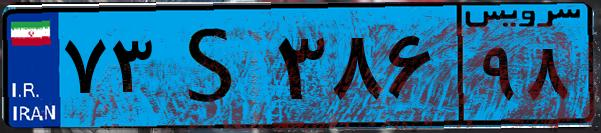3: (270, 28, 330, 110), (110, 28, 158, 98)
6: (385, 28, 445, 110)
7: (57, 26, 110, 100)
8: (330, 28, 385, 110), (525, 38, 570, 115)
9: (475, 38, 525, 113)
S: (158, 12, 270, 120)
